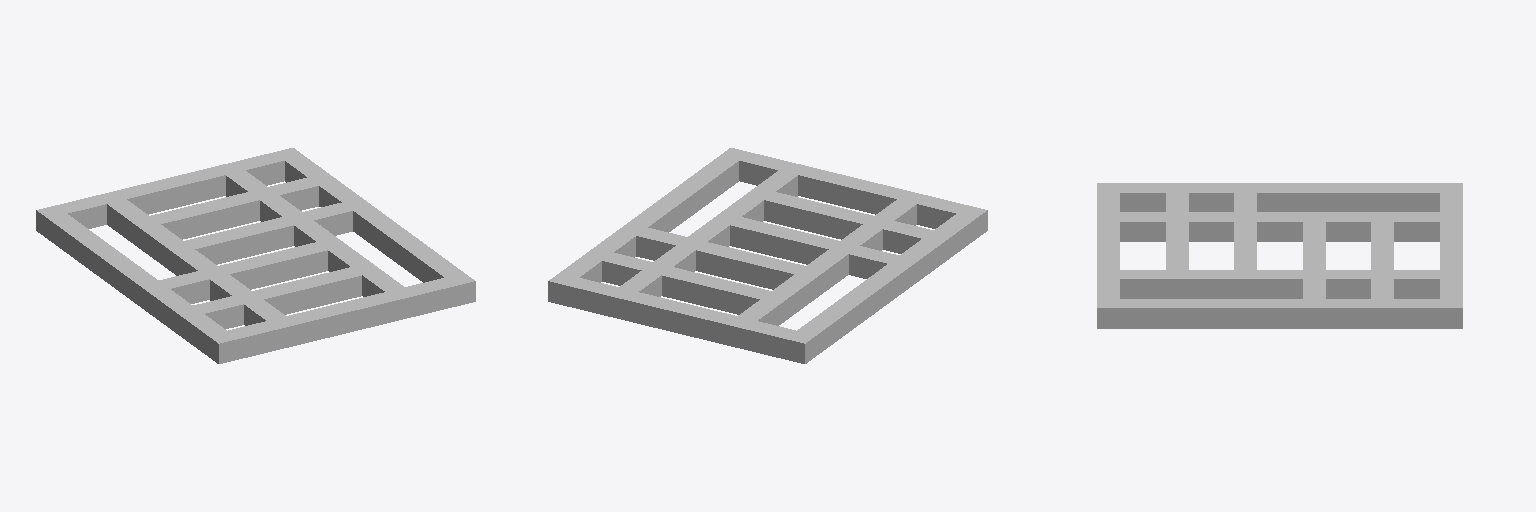
File: icon__osh.obj
The picture shows the model from 3 angles: view 1: azimuth 30°, elevation 25°; view 2: azimuth 150°, elevation 25°; view 3: azimuth 270°, elevation 25°; orthographic projection.
Parts seen in each view (by area): view 1: 000_Path; view 2: 000_Path; view 3: 000_Path.
Part boxes in pixels (left/top/right/bottom): 000_Path: left=36, top=148, right=475, bottom=363; 000_Path: left=548, top=148, right=987, bottom=363; 000_Path: left=1097, top=183, right=1462, bottom=328.
Size of the model in its own units: 13 by 1 by 16.